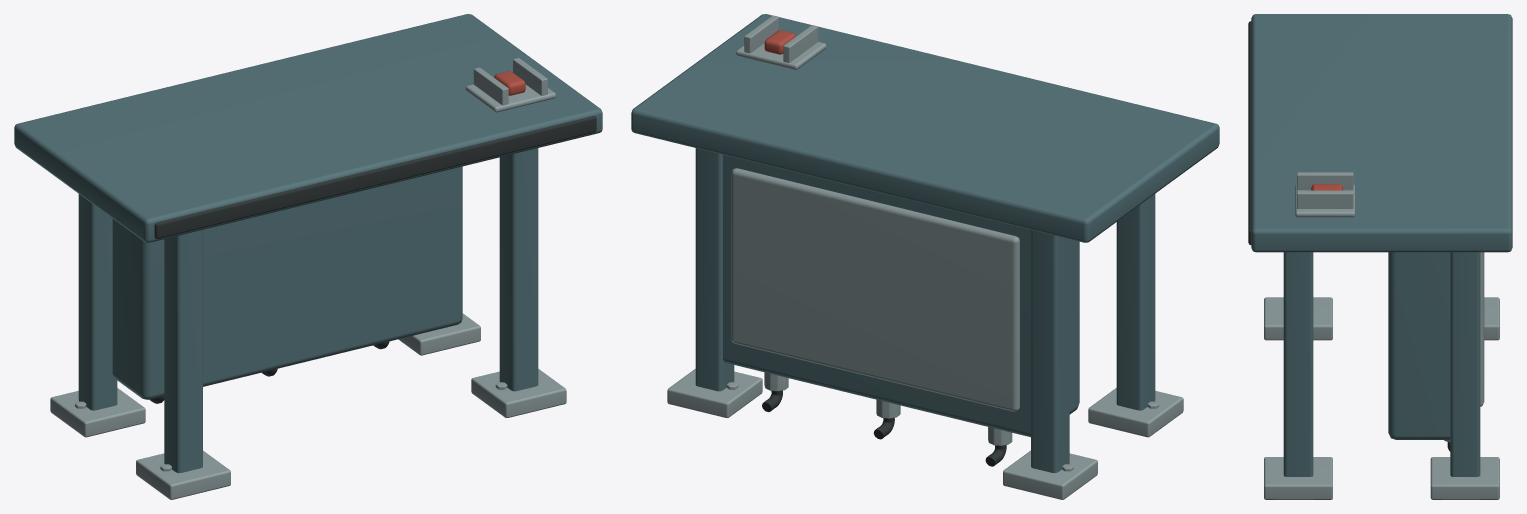
File: HF2_DistributionDesk.fbx
3 renders of one model, left to right at view 1: azimuth 30°, elevation 25°; view 2: azimuth 150°, elevation 25°; view 3: azimuth 270°, elevation 25°, orthographic. The views are drawn at different scales.
Visible parts, largest first — view 1: HF2_DistributionDesk; view 2: HF2_DistributionDesk; view 3: HF2_DistributionDesk.
Boxes of the visible parts, left/top/right/bottom form: HF2_DistributionDesk: left=14, top=14, right=602, bottom=499; HF2_DistributionDesk: left=631, top=14, right=1219, bottom=499; HF2_DistributionDesk: left=1248, top=14, right=1512, bottom=499.
Bounding box in the file's own units: 164 × 107 × 83.9.
